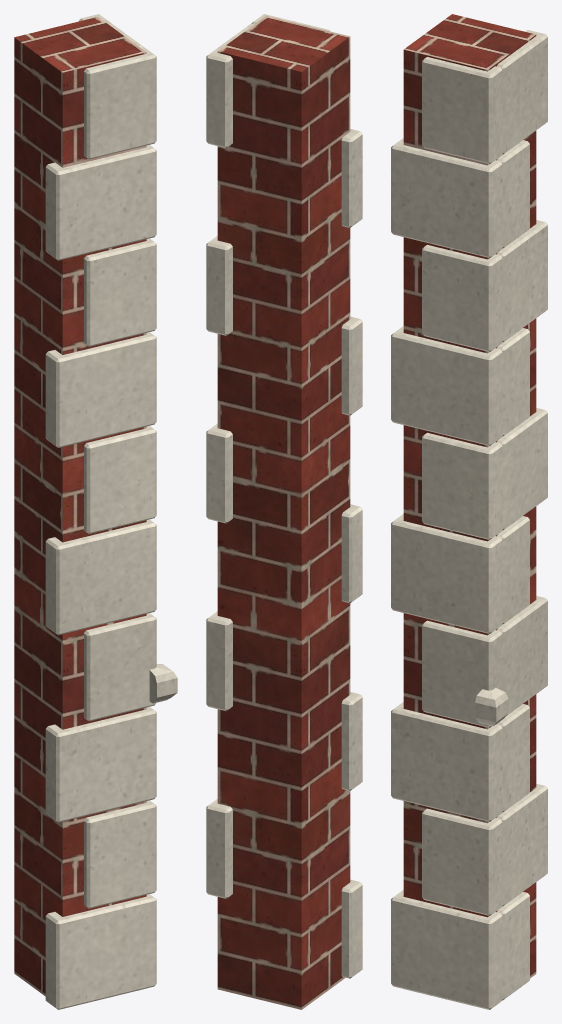
Rendered from corner_u2.glb.
3 renders of one model, left to right at view 1: azimuth 30°, elevation 25°; view 2: azimuth 150°, elevation 25°; view 3: azimuth 330°, elevation 25°, orthographic.
Parts seen in each view (by area): view 1: corner_u2_trim, corner_u2_brick; view 2: corner_u2_brick, corner_u2_trim; view 3: corner_u2_trim, corner_u2_brick.
Part boxes in pixels (bbox=[...]): corner_u2_trim: bbox=[45, 14, 177, 1009]; corner_u2_brick: bbox=[14, 17, 146, 1007]; corner_u2_brick: bbox=[217, 16, 350, 1009]; corner_u2_trim: bbox=[206, 14, 362, 978]; corner_u2_trim: bbox=[391, 30, 547, 1009]; corner_u2_brick: bbox=[403, 14, 536, 1009].
Size of the model in its own units: 0.405 by 3.2 by 0.405.
Materials: 2 (2 with a texture image).
